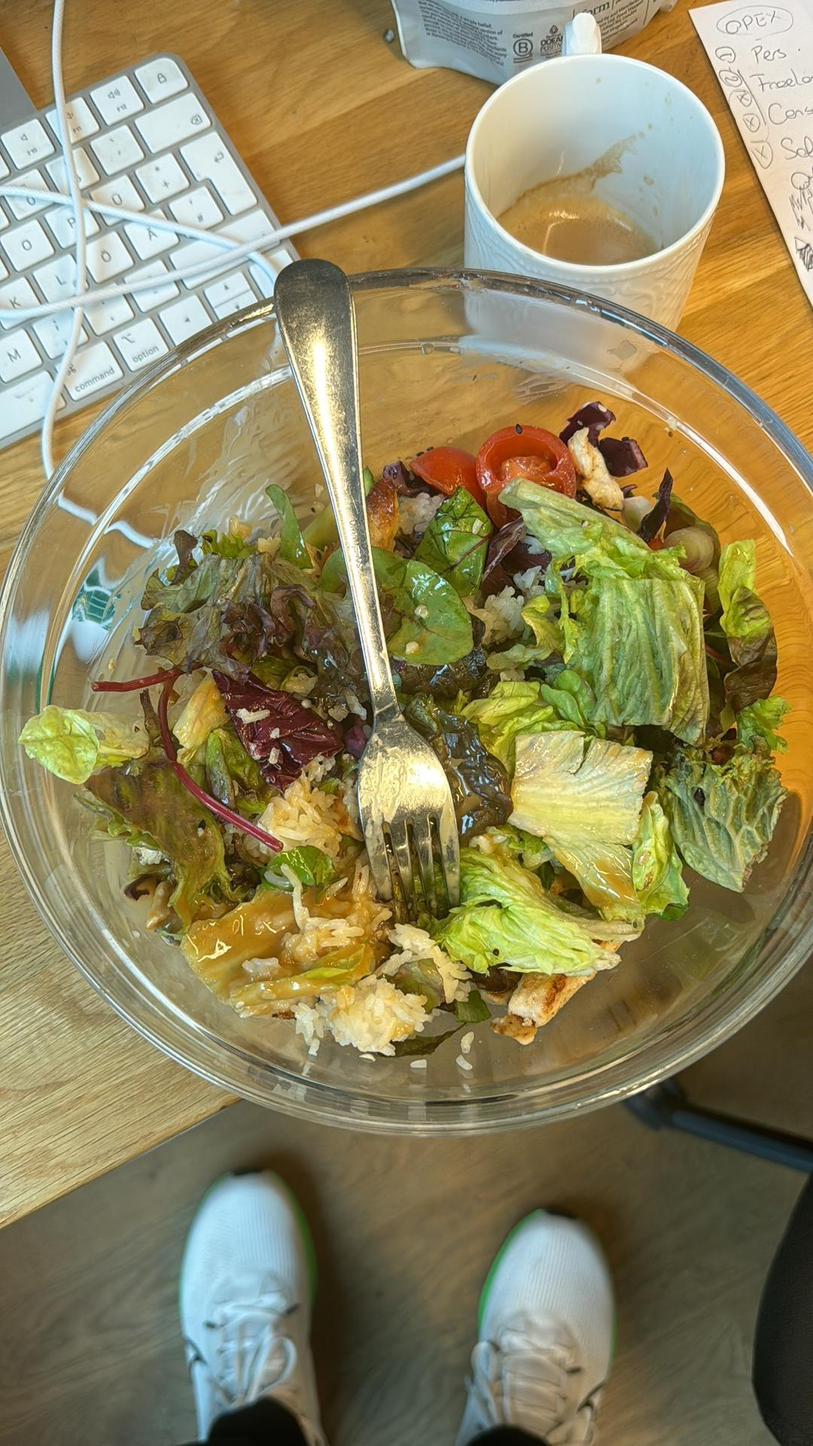lettuce: (132, 514, 358, 781), (514, 480, 698, 732), (177, 881, 405, 1028), (435, 845, 638, 968), (92, 778, 256, 921), (521, 723, 655, 898), (657, 761, 785, 902), (418, 689, 499, 851), (341, 545, 482, 633), (478, 599, 568, 714), (13, 702, 126, 781), (395, 501, 497, 587), (388, 994, 486, 1062), (721, 544, 772, 668)
tomato: (476, 427, 574, 525), (403, 433, 493, 511)
